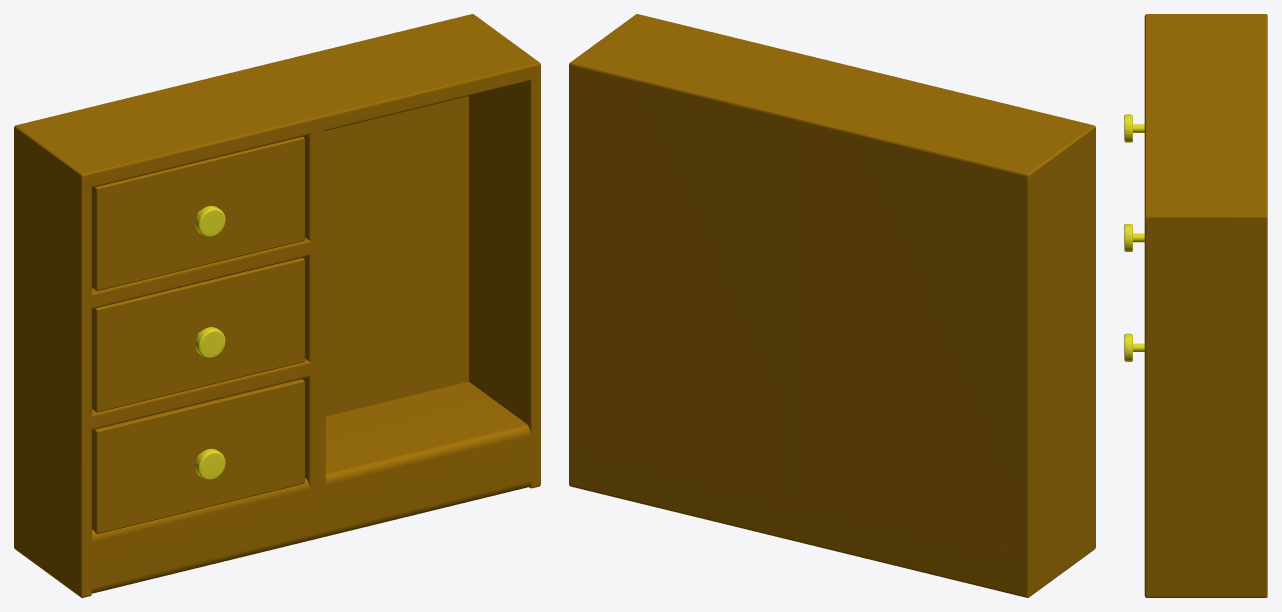
Rendered from chest2.fbx.
3 renders of one model, left to right at view 1: azimuth 30°, elevation 25°; view 2: azimuth 150°, elevation 25°; view 3: azimuth 270°, elevation 25°, orthographic. The views are drawn at different scales.
Visible parts, largest first — view 1: pasted__pasted__pasted__pasted__pCube1 (×5), pasted__pasted__pasted__pCube1 (×3), pasted__pasted__pasted__pCube6, pasted__pasted__pCube6, pasted__pCube6, pasted__pasted__pCube1, pasted__pasted__pasted__pasted__pasted__pCube1, pasted__pasted__pCylinder1, pasted__pasted__pasted__pCylinder1, pasted__pCylinder1; view 2: pasted__pasted__pasted__pasted__pCube1 (×5), pasted__pasted__pasted__pCube1 (×4), pasted__pasted__pCube1, pasted__pasted__pasted__pasted__pasted__pCube1; view 3: pasted__pasted__pasted__pCube1 (×2), pasted__pasted__pasted__pasted__pCube1, pasted__pCylinder1, pasted__pasted__pasted__pCylinder1, pasted__pasted__pCylinder1.
Boxes of the visible parts, x1,y1,x2,y2 form: pasted__pasted__pasted__pasted__pCube1 (×5): [14, 14, 537, 597]; pasted__pasted__pasted__pCube1 (×3): [17, 14, 540, 541]; pasted__pasted__pasted__pCube6: [92, 379, 304, 533]; pasted__pasted__pCube6: [92, 257, 304, 412]; pasted__pCube6: [92, 136, 304, 291]; pasted__pasted__pCube1: [88, 481, 315, 593]; pasted__pasted__pasted__pasted__pasted__pCube1: [84, 358, 319, 430]; pasted__pasted__pCylinder1: [195, 327, 225, 358]; pasted__pasted__pasted__pCylinder1: [195, 448, 225, 480]; pasted__pCylinder1: [195, 206, 225, 237]; pasted__pasted__pasted__pasted__pCube1 (×5): [572, 14, 1095, 597]; pasted__pasted__pasted__pCube1 (×4): [569, 14, 1092, 595]; pasted__pasted__pCube1: [794, 495, 1021, 588]; pasted__pasted__pasted__pasted__pasted__pCube1: [790, 362, 1025, 430]; pasted__pasted__pasted__pCube1 (×2): [1144, 14, 1267, 597]; pasted__pasted__pasted__pasted__pCube1: [1144, 110, 1267, 215]; pasted__pCylinder1: [1124, 114, 1132, 142]; pasted__pasted__pasted__pCylinder1: [1124, 333, 1132, 361]; pasted__pasted__pCylinder1: [1124, 224, 1132, 251].
Bounding box in the file's own units: 1.84 × 1.62 × 0.5512.
